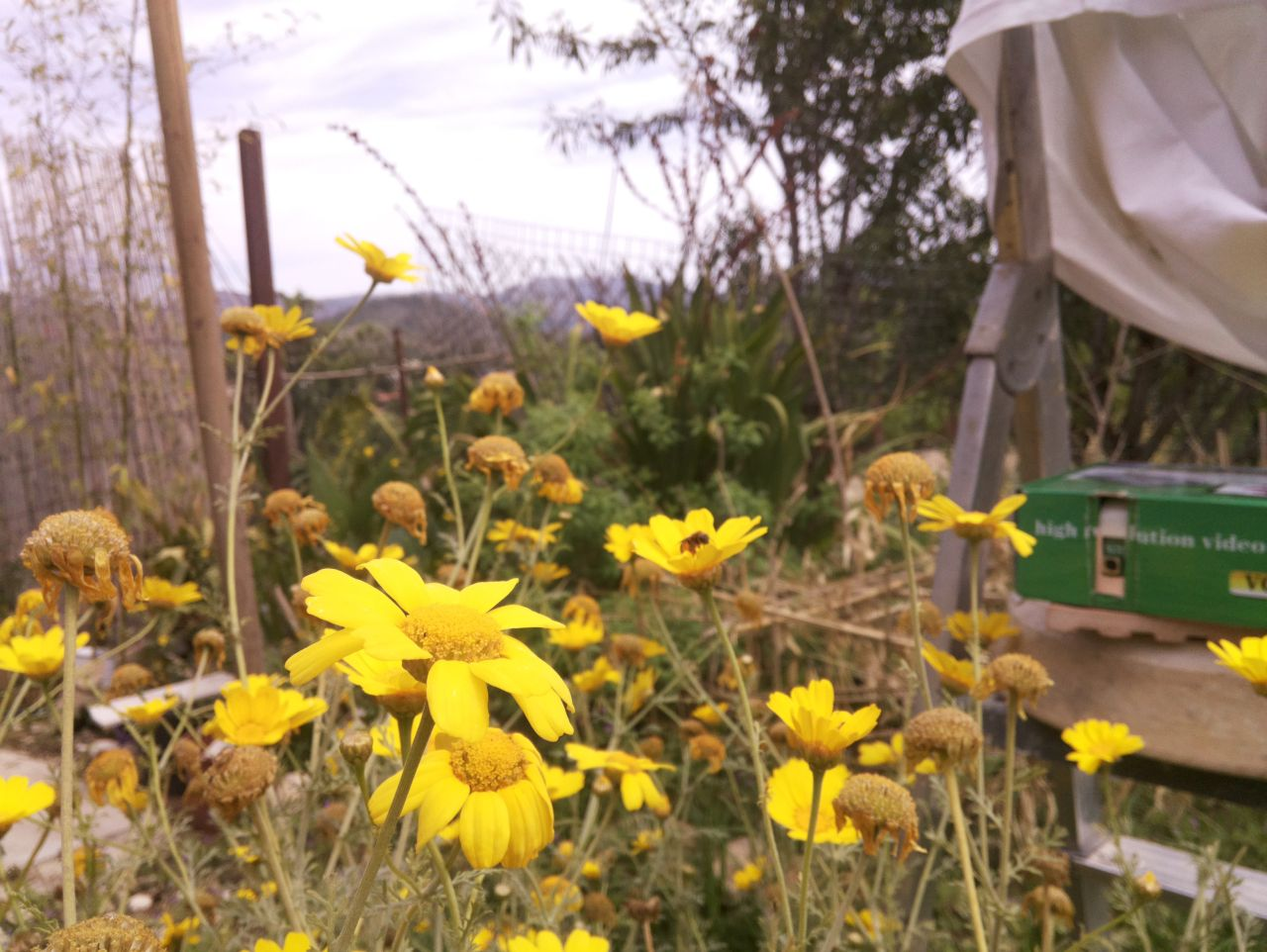bee: (674, 525, 718, 562)
